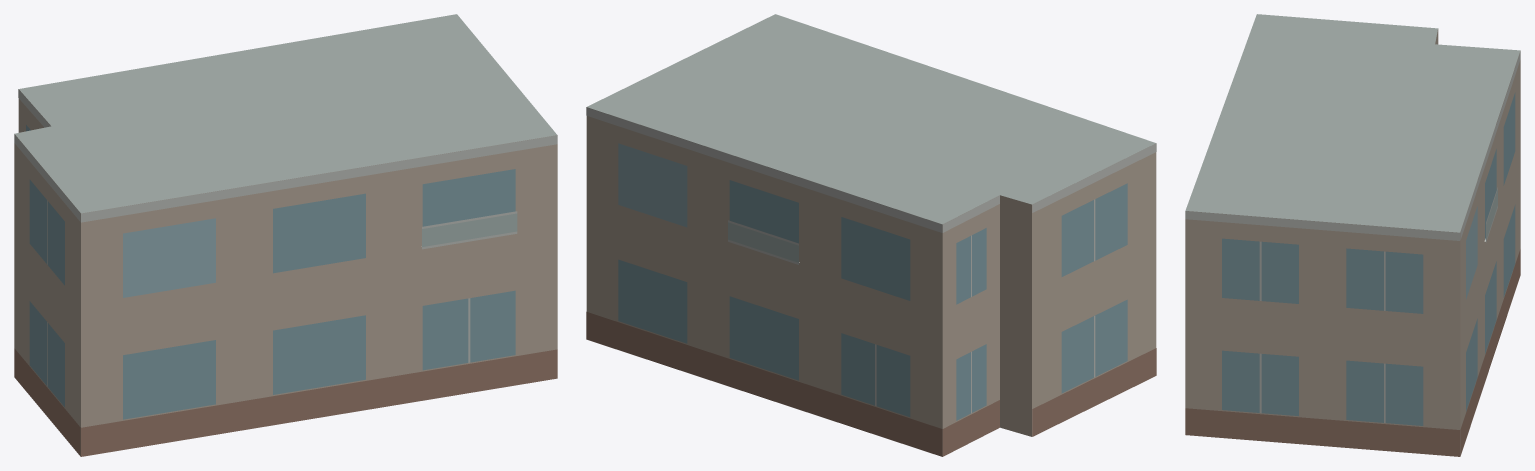
The model's file is survey-upis-32614596.glb.
The picture shows the model from 3 angles, left to right: view 1: azimuth 30°, elevation 25°; view 2: azimuth 150°, elevation 25°; view 3: azimuth 270°, elevation 25°; orthographic projection. The views are drawn at different scales.
Parts seen in each view (by area): view 1: survey-upis-32614596.tmp; view 2: survey-upis-32614596.tmp; view 3: survey-upis-32614596.tmp.
Boxes of the visible parts, x1=… form: survey-upis-32614596.tmp: x1=14, y1=14, x2=557, y2=456; survey-upis-32614596.tmp: x1=586, y1=14, x2=1156, y2=456; survey-upis-32614596.tmp: x1=1185, y1=14, x2=1520, y2=456.
Bounding box in the file's own units: 13.61 × 6.5 × 8.82.
